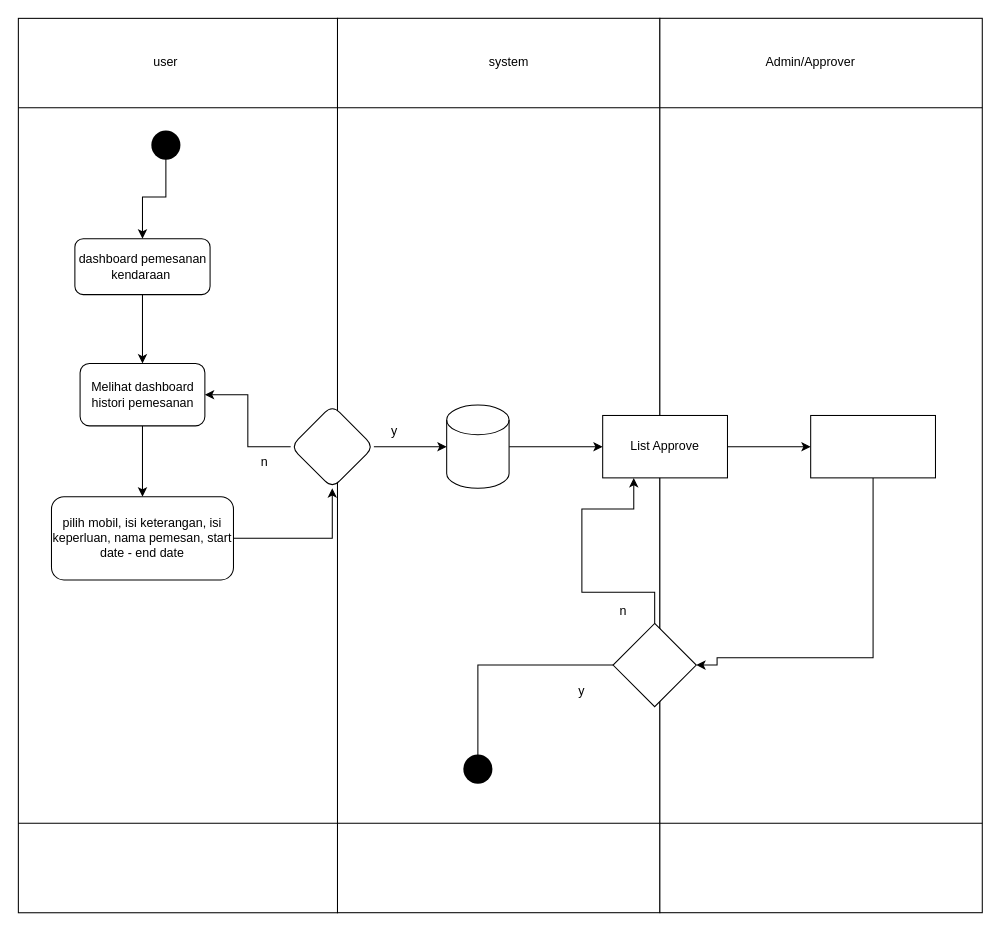
This 1000x932 diagram has some shape labels left out. The shapes that lost their labels are listed below. From the top down, each one's centre as x and y in pixels, then its label:
(x=477, y=446): submission list
(x=872, y=446): pengambilan keputusan
